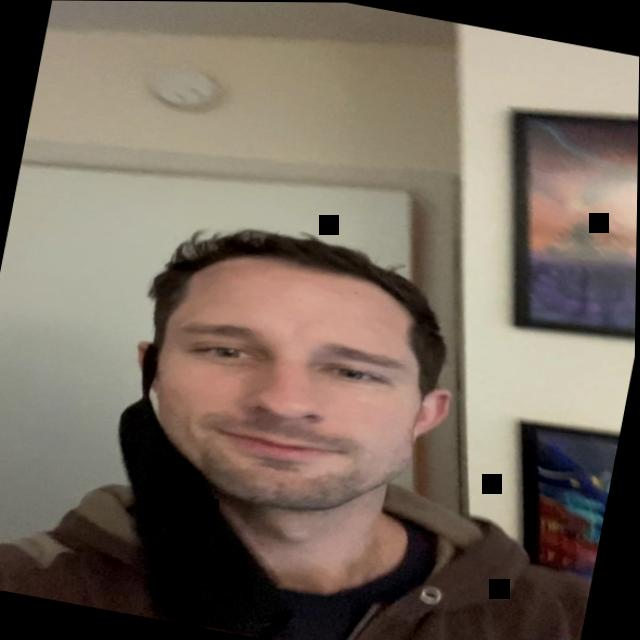NO-Mask: (104, 221, 479, 558)
